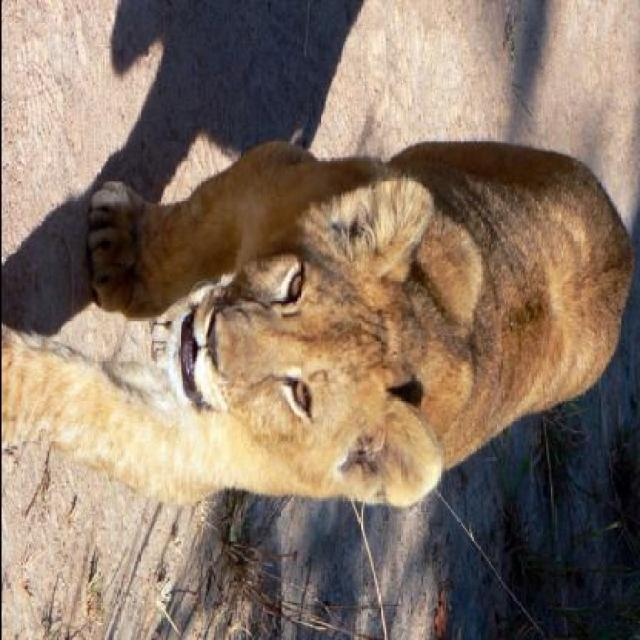Lion: (5, 2, 626, 589)
